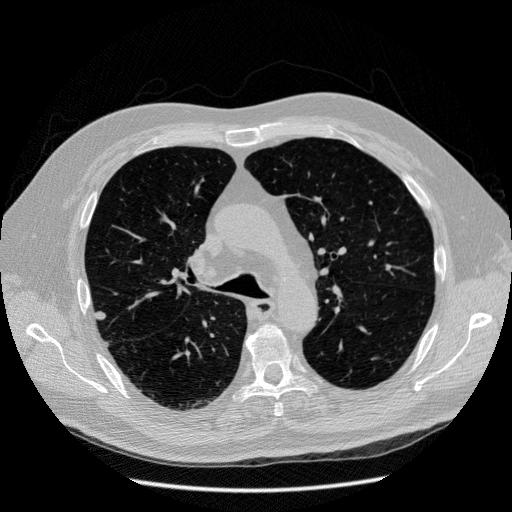nodule: (92, 308, 107, 323)
